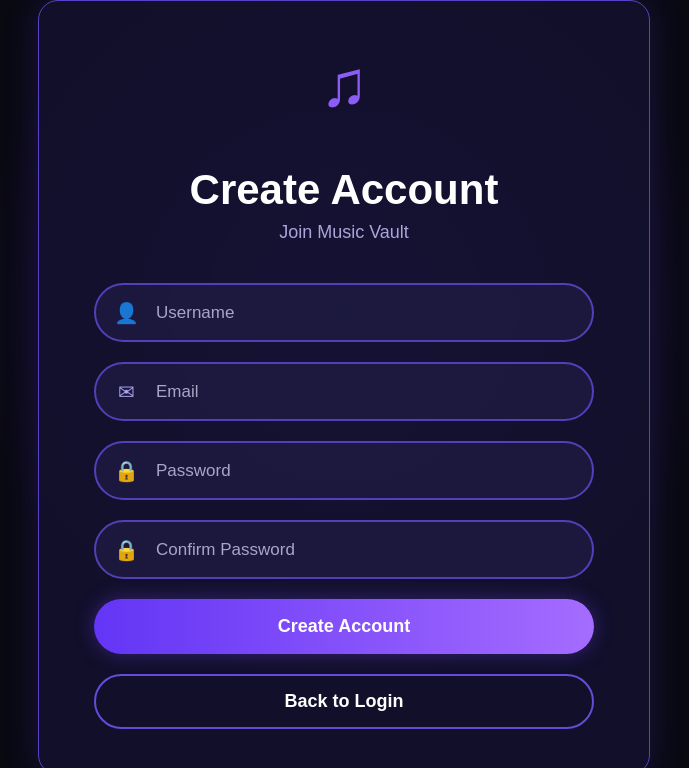
Test: Register page › shows an error when passwords do not match
Type "testuser" into the field with placeholder "Username".
click(364, 312); type("testuser")  # box [154,302,574,324]
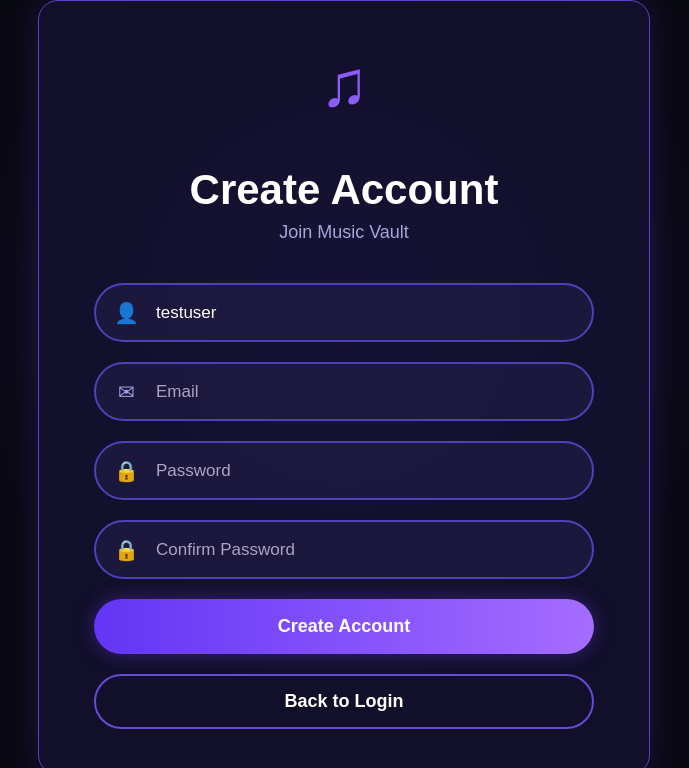
Type "test@example.com" into the field with placeholder "Email".
click(364, 392); type("test@example.com")  # box [154,380,574,402]
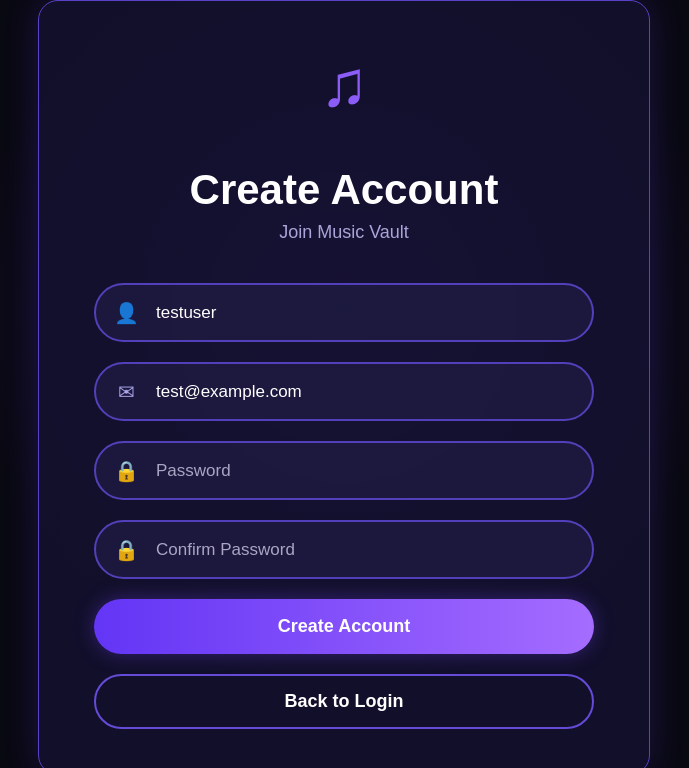
Type "Password123" into the password field with placeholder "Password".
click(364, 470); type("Password123")  # box [154,460,574,482]
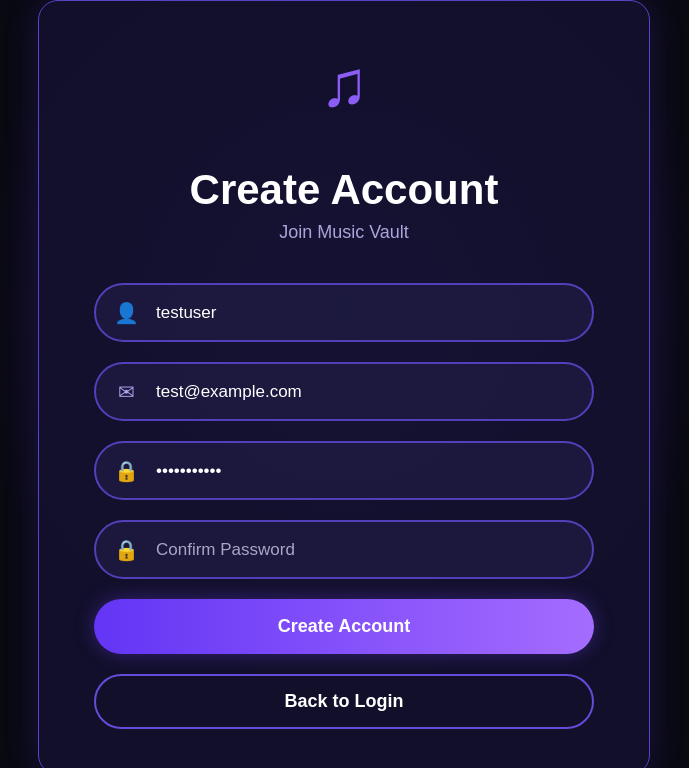
Type "Different123" into the password field with placeholder "Confirm Password".
click(364, 550); type("Different123")  # box [154,538,574,560]
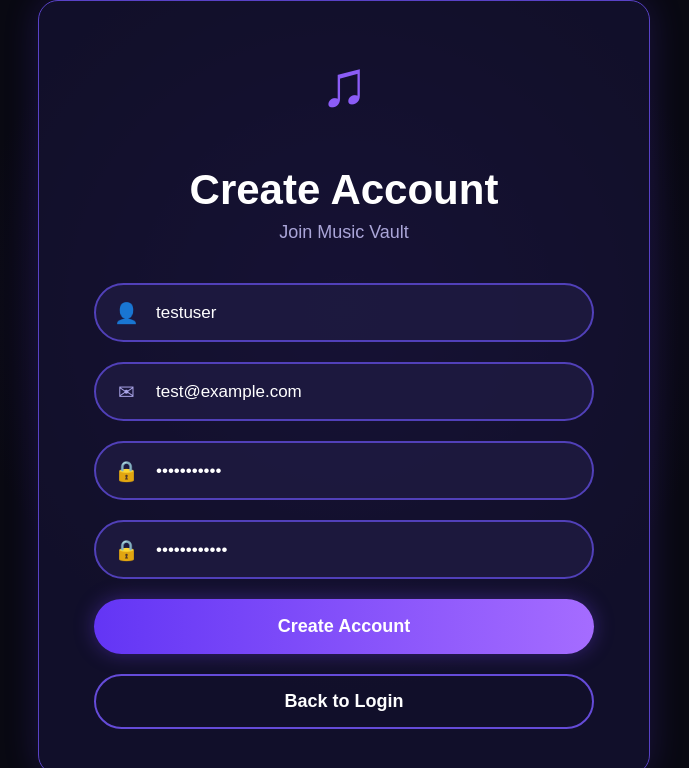
Click the button "Create Account".
click(344, 626)  # box [94,599,594,654]
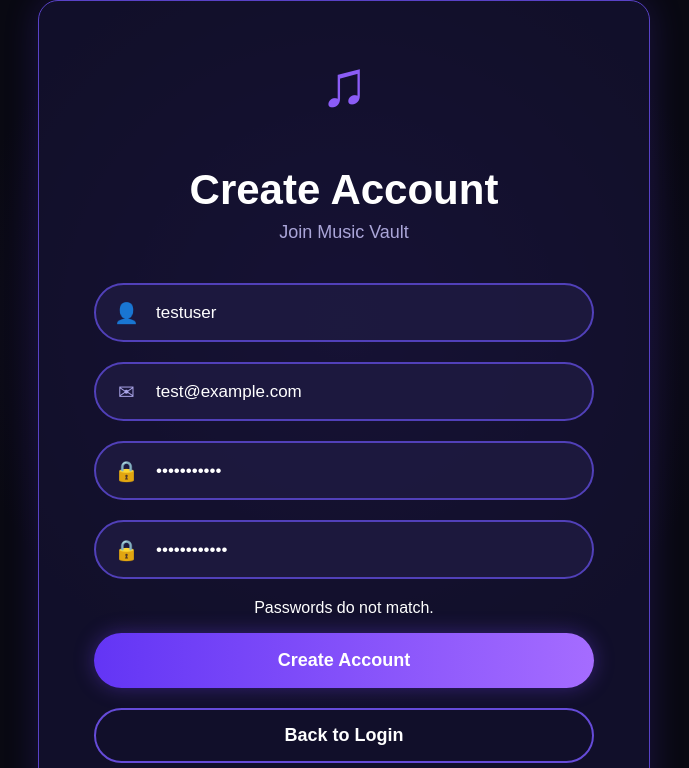
Now the text "Passwords do not match." is shown, box [254,599,434,616]
